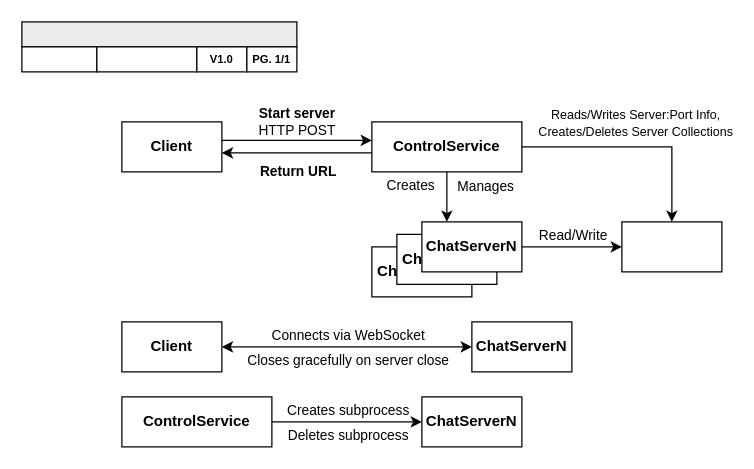
This 754x469 diagram has some shape labels left out. Each missing label, with the centre of its shape:
"Apr. 4, 2025" belongs at (146,59).
"Interaction Diagram" belongs at (159,34).
"MongoDB" belongs at (671,246).
"TEAM 29" belongs at (59,59).
